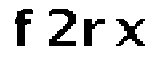2: (47, 7, 78, 51)
f: (10, 5, 38, 50)
r: (81, 17, 107, 49)
x: (116, 15, 149, 49)
